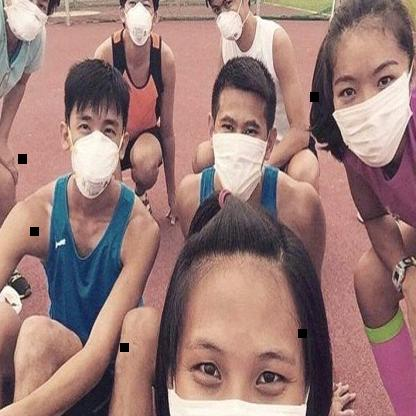mask: (151, 221, 342, 416), (325, 0, 416, 171), (196, 60, 280, 204), (53, 63, 131, 199), (0, 0, 64, 50), (111, 0, 165, 51), (205, 0, 257, 49)
